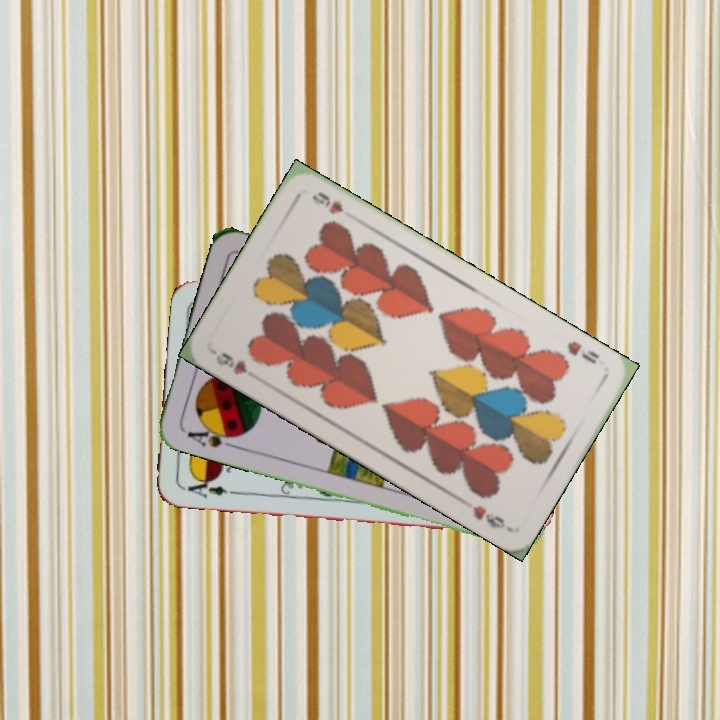EA: (178, 473, 237, 501)
H9: (211, 347, 250, 378), (563, 336, 602, 367)
SA: (183, 421, 242, 451)
